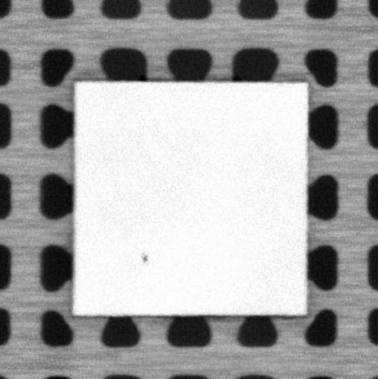DIE_INK: (138, 252, 150, 264)
